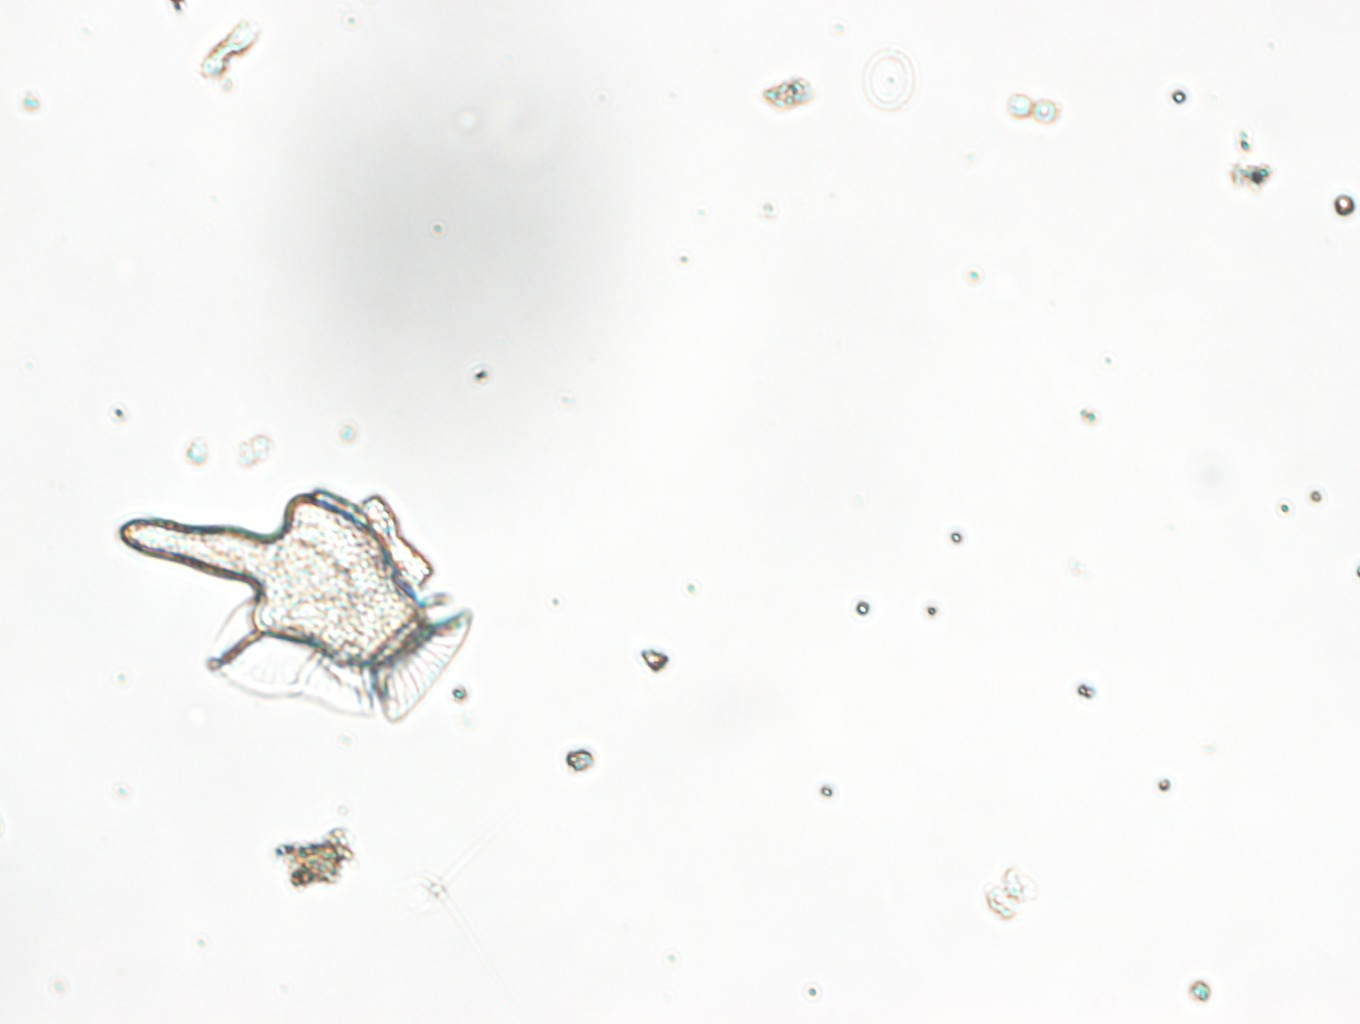dinophysis caudata: (120, 487, 473, 724)
